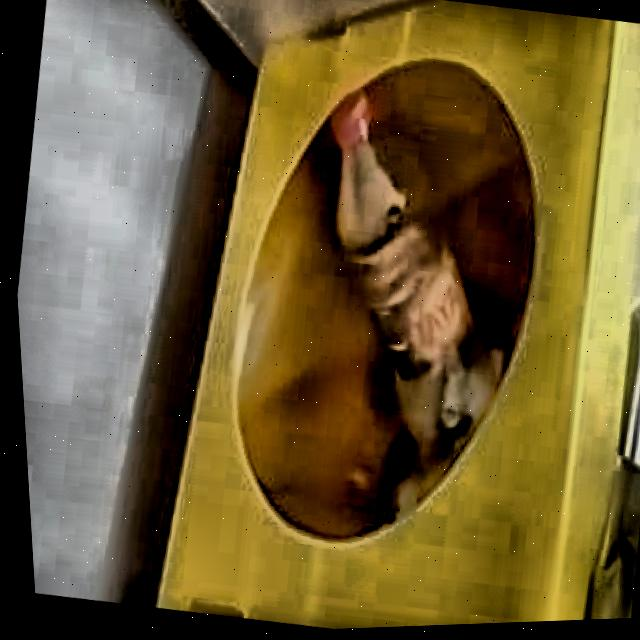plastic: (329, 92, 502, 514)
